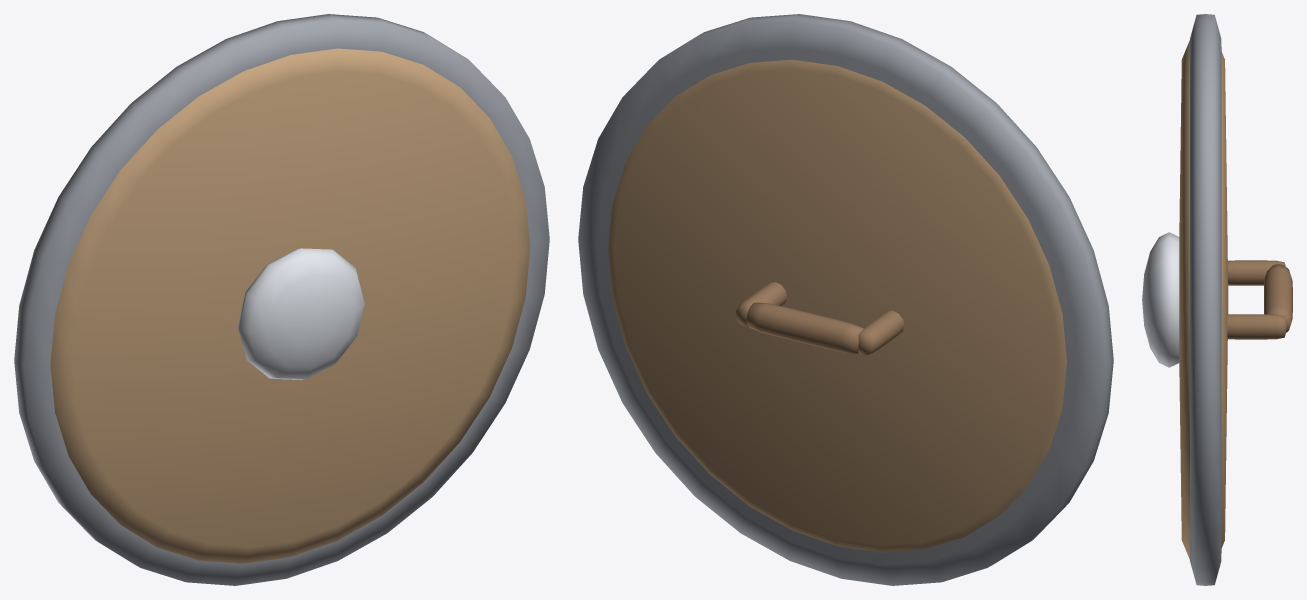
Rendered from shield.glb.
3 renders of one model, left to right at view 1: azimuth 30°, elevation 25°; view 2: azimuth 150°, elevation 25°; view 3: azimuth 270°, elevation 25°, orthographic. The views are drawn at different scales.
Visible parts, largest first — view 1: shield; view 2: shield; view 3: shield.
Part boxes in pixels (left/top/right/bottom): shield: left=14, top=14, right=549, bottom=585; shield: left=578, top=14, right=1113, bottom=585; shield: left=1142, top=14, right=1292, bottom=585.
Size of the model in its own units: 0.63 by 0.63 by 0.166.
